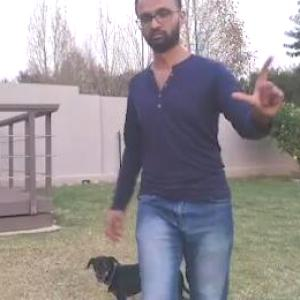land_hand: (232, 51, 292, 126)
